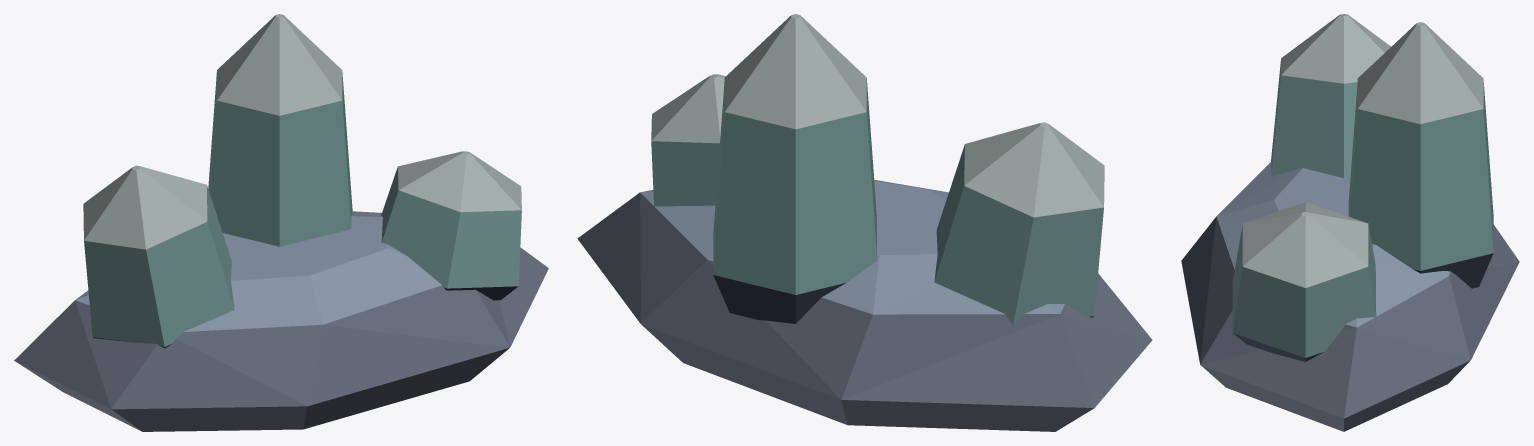
File: ore-vein.glb
3 renders of one model, left to right at view 1: azimuth 30°, elevation 25°; view 2: azimuth 150°, elevation 25°; view 3: azimuth 270°, elevation 25°, orthographic. The views are drawn at different scales.
Visible parts, largest first — view 1: ore-vein__body; view 2: ore-vein__body; view 3: ore-vein__body.
Boxes of the visible parts, x1,y1,x2,y2 form: ore-vein__body: [14, 14, 548, 431]; ore-vein__body: [577, 14, 1152, 431]; ore-vein__body: [1181, 14, 1519, 431].
Bounding box in the file's own units: 1.5 × 0.915 × 0.8823.
